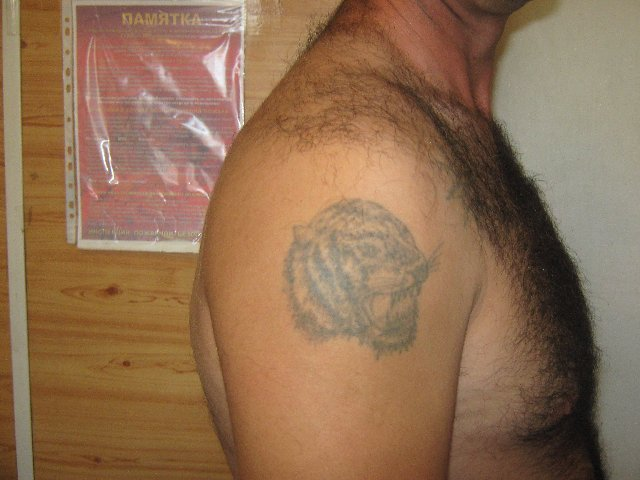tatu5_tigr: (269, 196, 439, 363)
